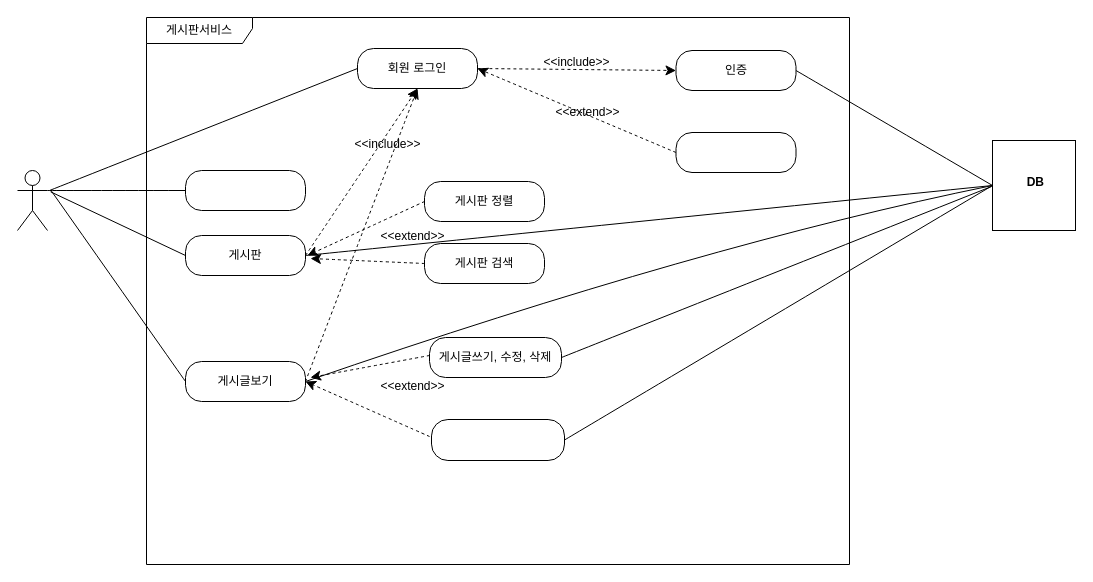
Image size: 1093x582. Some labels were removed from this diagram. Here are the shapes that lost their labels. From the top down, the box of each, then its label:
(675, 132, 796, 172): 로그인 실패
(16, 170, 48, 230): Actor
(184, 170, 306, 210): 회원가입
(430, 418, 564, 460): 댓글 보기 쓰기, 수정 , 삭제
